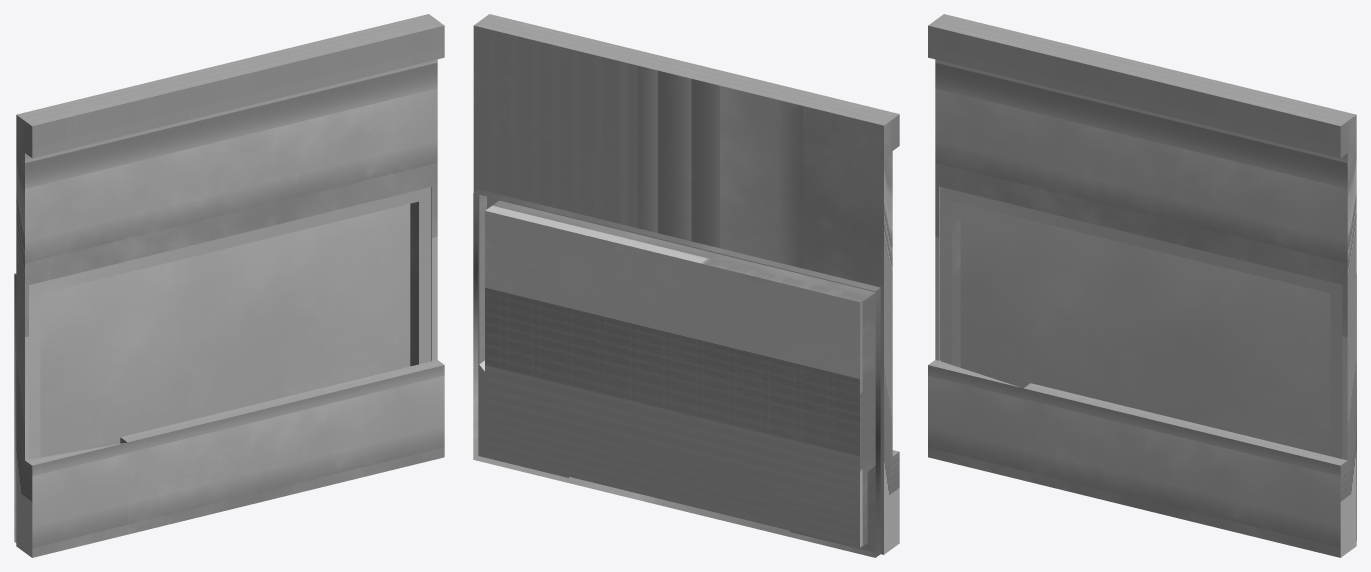
The model's file is wideWindows.fbx.
The picture shows the model from 3 angles, left to right: view 1: azimuth 30°, elevation 25°; view 2: azimuth 150°, elevation 25°; view 3: azimuth 330°, elevation 25°; orthographic projection.
Parts seen in each view (by area): view 1: greyDoorWall246, door, doorFrame; view 2: door, greyDoorWall246, doorFrame; view 3: greyDoorWall246, door, doorFrame.
Boxes of the visible parts, x1,y1,x2,y2 form: greyDoorWall246: (16, 14, 444, 557); door: (40, 204, 410, 457); doorFrame: (14, 187, 431, 542); door: (485, 205, 866, 547); greyDoorWall246: (473, 14, 899, 554); doorFrame: (473, 189, 880, 557); greyDoorWall246: (928, 14, 1356, 557); door: (960, 203, 1330, 456); doorFrame: (940, 186, 1356, 540).
Bounding box in the file's own units: 500 × 500 × 48.29.
